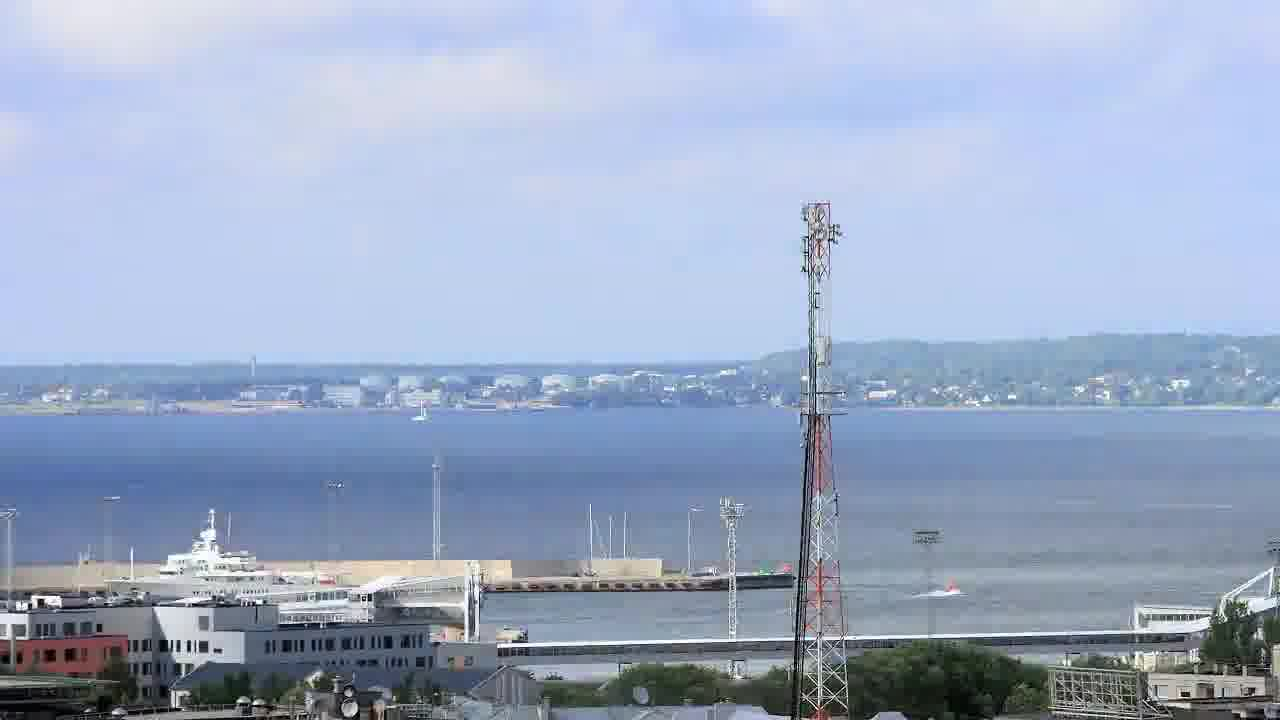type-3: (84, 500, 377, 612)
type-4: (915, 573, 981, 606)
